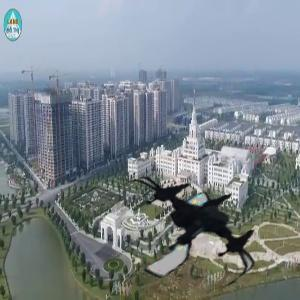drone: (122, 158, 263, 299)
